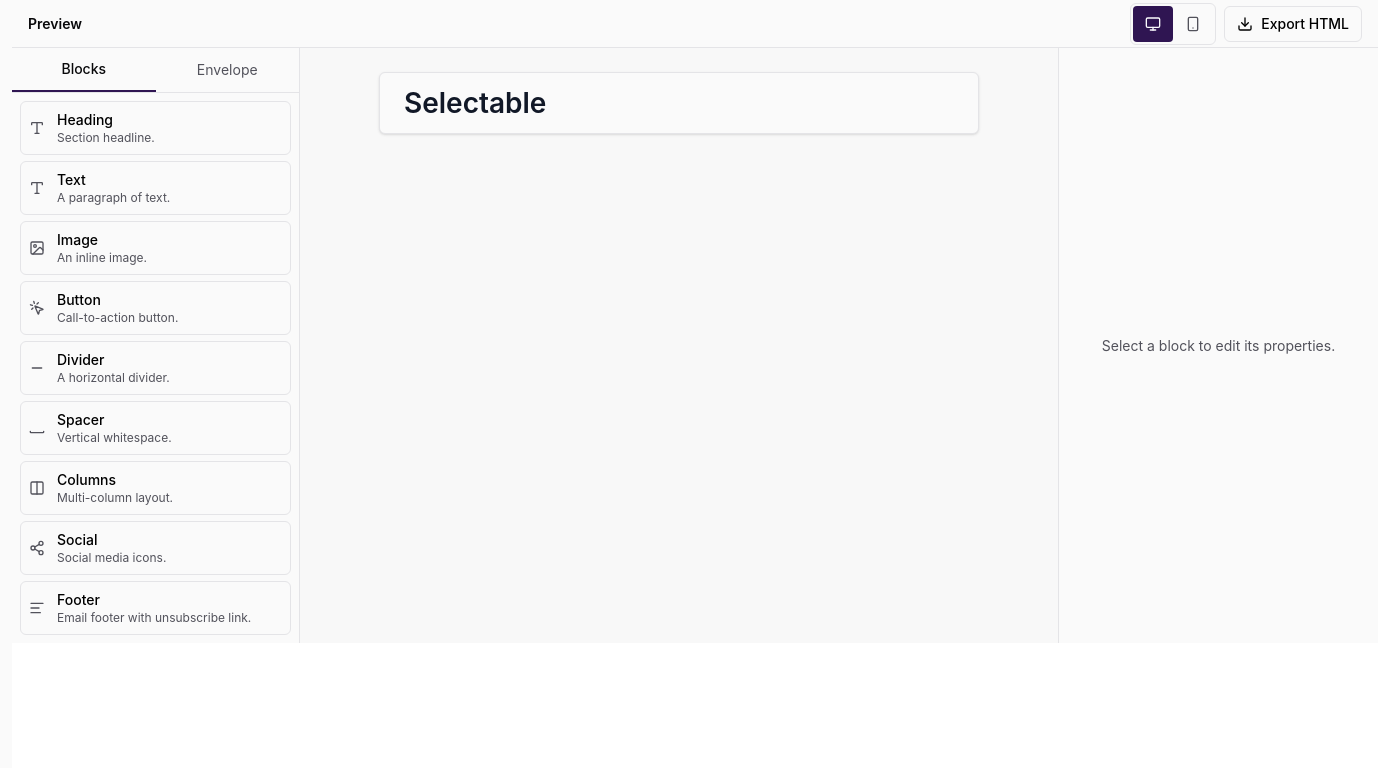
Test: EmailBuilder › selects a block by clicking it in the canvas
Click the button named "Select heading block".
click(679, 103)  # box [380,73,978,133]
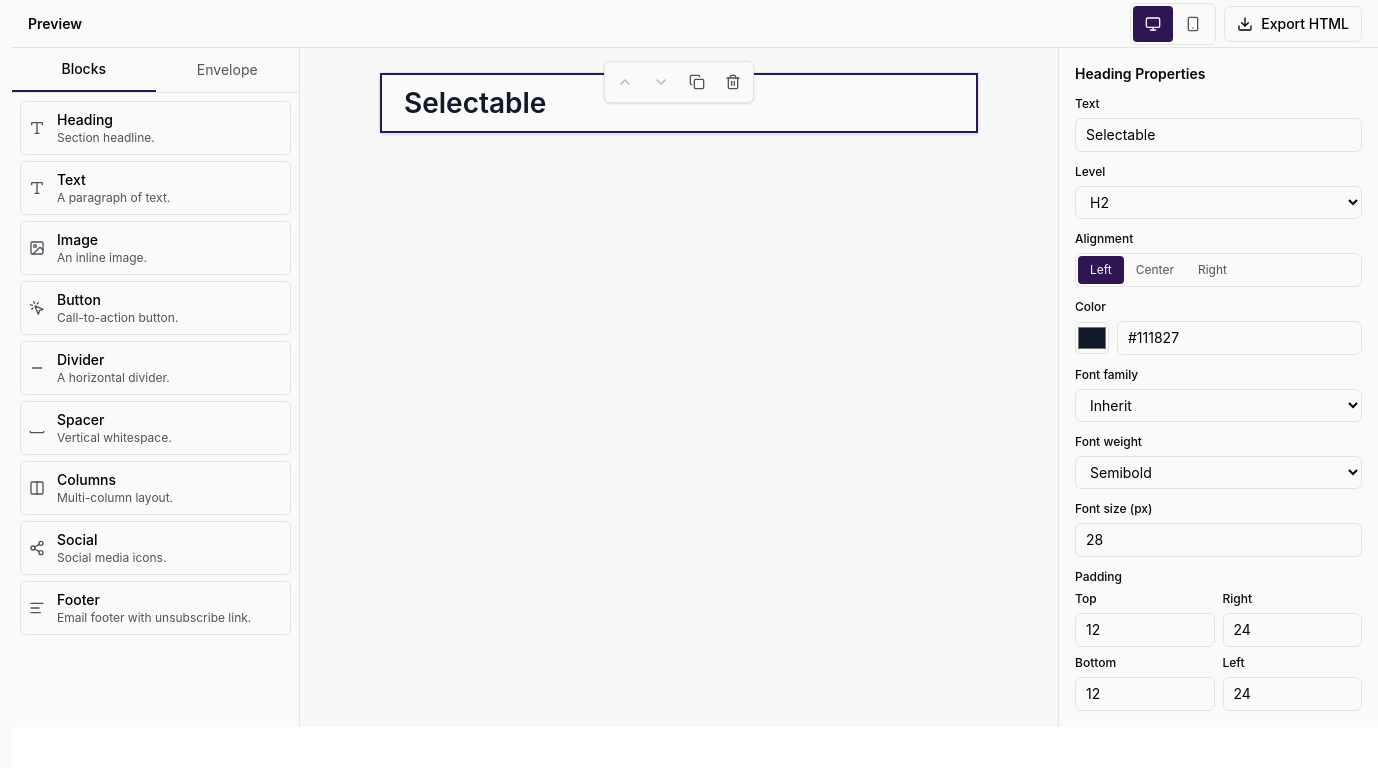
Now the field labelled "Text" is shown, box [1075,118,1362,152]
